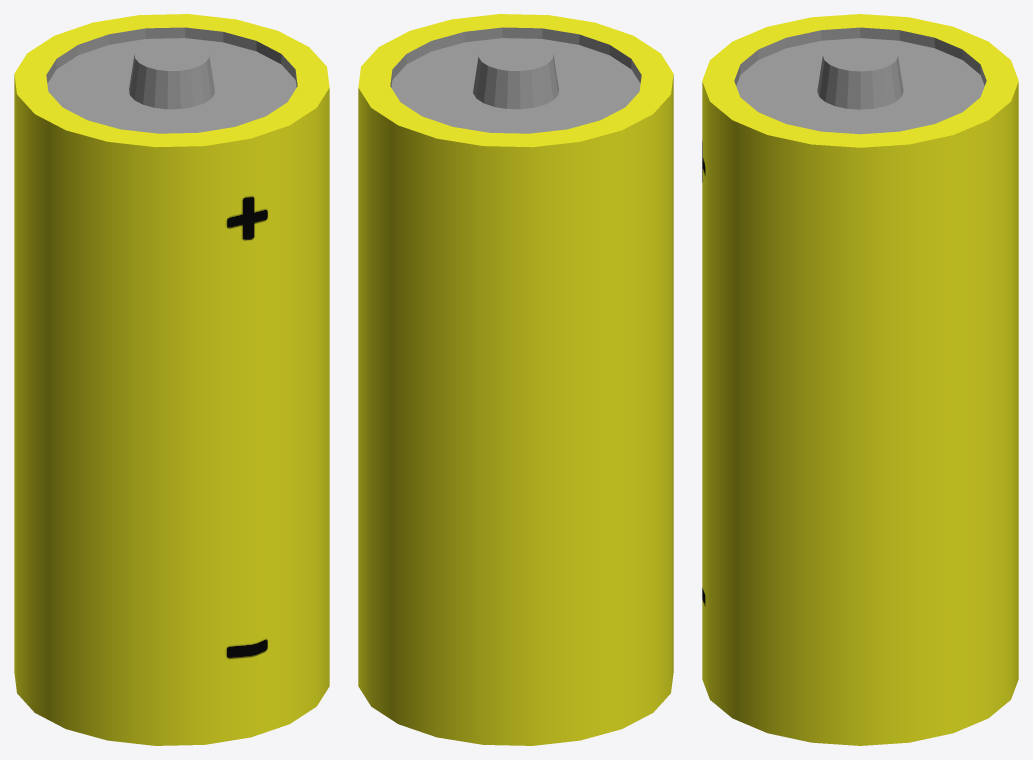
Rendered from PILA.fbx.
3 renders of one model, left to right at view 1: azimuth 30°, elevation 25°; view 2: azimuth 150°, elevation 25°; view 3: azimuth 270°, elevation 25°, orthographic.
Visible parts, largest first — view 1: pila_low; view 2: pila_low; view 3: pila_low.
Boxes of the visible parts, x1=… form: pila_low: x1=14, y1=14, x2=329, y2=745; pila_low: x1=358, y1=14, x2=673, y2=745; pila_low: x1=702, y1=14, x2=1018, y2=745.
Bounding box in the file's own units: 0.4026 × 0.8748 × 0.4026.
